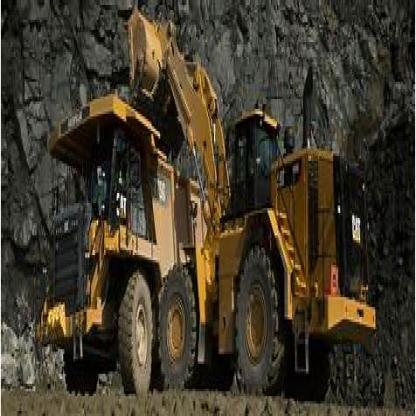bull_dozer/loader/grader: (125, 5, 382, 379)
